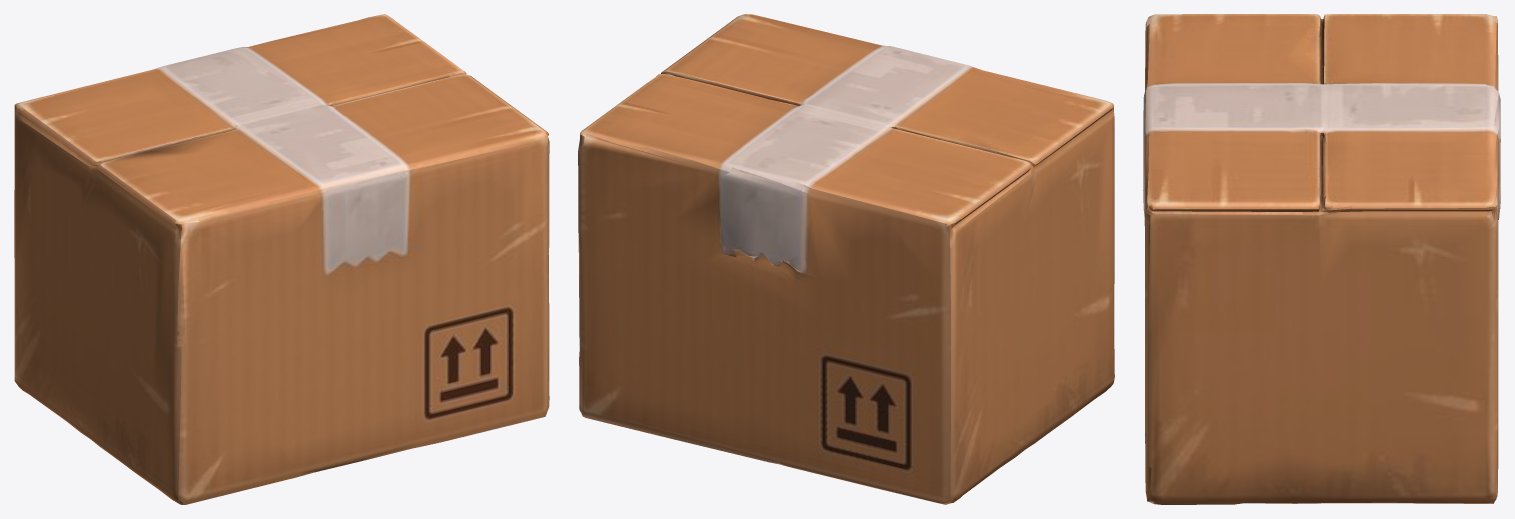
The model's file is arene_carton.glb.
The picture shows the model from 3 angles, left to right: view 1: azimuth 30°, elevation 25°; view 2: azimuth 150°, elevation 25°; view 3: azimuth 270°, elevation 25°; orthographic projection. The views are drawn at different scales.
Visible parts, largest first — view 1: Mesh0; view 2: Mesh0; view 3: Mesh0.
Part boxes in pixels (x1=…): Mesh0: x1=14, y1=14, x2=549, y2=504; Mesh0: x1=578, y1=14, x2=1114, y2=504; Mesh0: x1=1143, y1=14, x2=1500, y2=504.
Bounding box in the file's own units: 1.9 × 1.39 × 1.48.
1 material, 1 textured.
